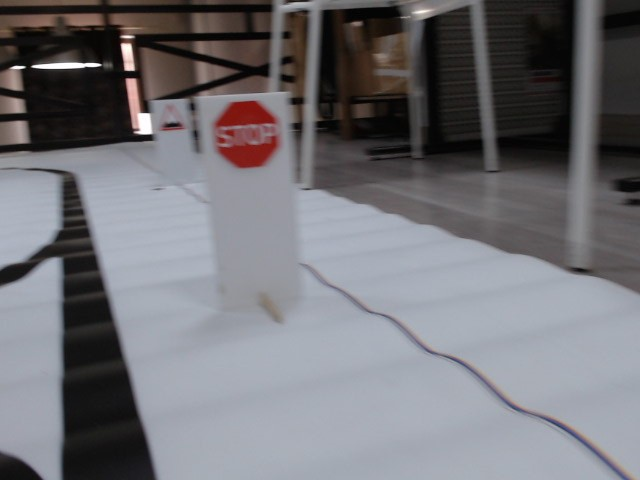Stop: (210, 99, 280, 170)
